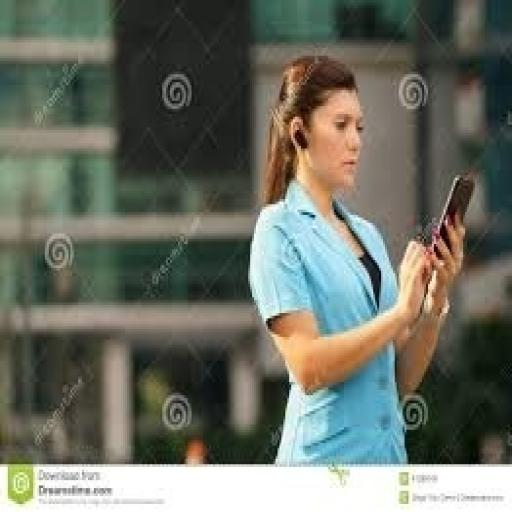calling: (246, 50, 469, 464)
